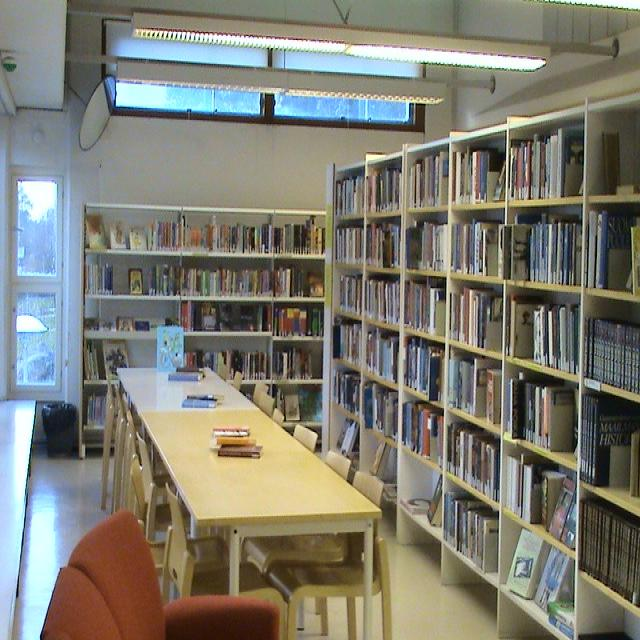book -group-: (508, 528, 573, 638), (508, 452, 576, 550), (580, 498, 640, 608), (583, 393, 640, 497), (507, 295, 580, 376), (505, 212, 580, 286), (508, 381, 578, 454), (509, 128, 582, 197), (587, 210, 640, 296), (445, 490, 499, 573), (585, 316, 640, 395), (448, 422, 500, 503), (448, 348, 500, 426), (85, 256, 180, 294), (85, 213, 178, 250), (450, 288, 502, 352), (183, 216, 272, 253), (452, 220, 504, 279), (453, 148, 505, 204), (402, 400, 443, 471), (182, 300, 272, 332), (183, 266, 271, 296), (404, 335, 443, 401), (184, 350, 268, 380), (404, 277, 445, 337), (602, 131, 640, 195), (400, 473, 442, 528), (405, 219, 448, 272), (409, 151, 448, 208), (363, 381, 398, 444), (274, 214, 324, 253), (370, 438, 397, 506), (84, 340, 130, 379), (274, 386, 322, 422), (368, 327, 398, 384), (365, 278, 400, 326), (211, 428, 265, 459), (367, 167, 402, 212), (367, 222, 400, 269), (274, 306, 323, 336), (334, 418, 360, 473), (333, 368, 360, 418), (277, 269, 323, 298), (85, 317, 179, 331), (333, 323, 362, 368), (157, 325, 184, 373), (272, 347, 312, 379), (336, 226, 364, 267), (336, 175, 365, 214), (340, 274, 363, 317), (183, 393, 224, 409), (168, 366, 206, 382)
bookcase: (324, 90, 640, 640), (324, 92, 639, 640)
shelf: (502, 427, 579, 565), (500, 504, 574, 640), (577, 472, 640, 619), (582, 372, 640, 524), (505, 94, 584, 204), (505, 354, 578, 472), (505, 278, 581, 384), (504, 196, 582, 296), (580, 286, 640, 405), (445, 466, 502, 588), (446, 401, 501, 514), (443, 530, 499, 636), (79, 379, 181, 437), (571, 556, 640, 640), (80, 329, 182, 384), (84, 200, 184, 256), (584, 103, 640, 202), (448, 334, 502, 436), (448, 264, 504, 362), (83, 247, 180, 303), (589, 198, 640, 304), (177, 329, 271, 385), (181, 249, 275, 303), (399, 439, 444, 551), (450, 120, 504, 212), (180, 205, 274, 257), (501, 576, 577, 640), (82, 291, 181, 339), (450, 198, 505, 284), (397, 498, 447, 591), (400, 382, 448, 478), (398, 199, 452, 283), (180, 380, 273, 428), (402, 127, 452, 215), (180, 292, 273, 336), (399, 323, 445, 411), (358, 314, 406, 398), (402, 264, 446, 345), (361, 363, 401, 452), (358, 264, 406, 336), (361, 420, 399, 510), (363, 204, 404, 283), (364, 148, 406, 218), (269, 333, 324, 386), (269, 377, 324, 428), (272, 208, 326, 259), (272, 254, 327, 304), (330, 399, 361, 487), (272, 296, 324, 342), (363, 490, 404, 544), (331, 210, 368, 268), (332, 159, 366, 222), (332, 353, 361, 426), (332, 308, 362, 374), (334, 262, 365, 320)
tablet computer: (138, 414, 380, 638), (117, 368, 263, 475)
